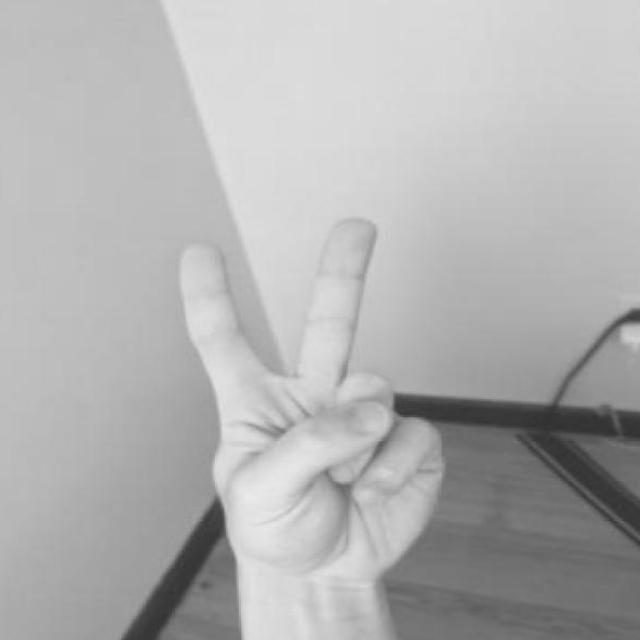V: (156, 218, 451, 640)
